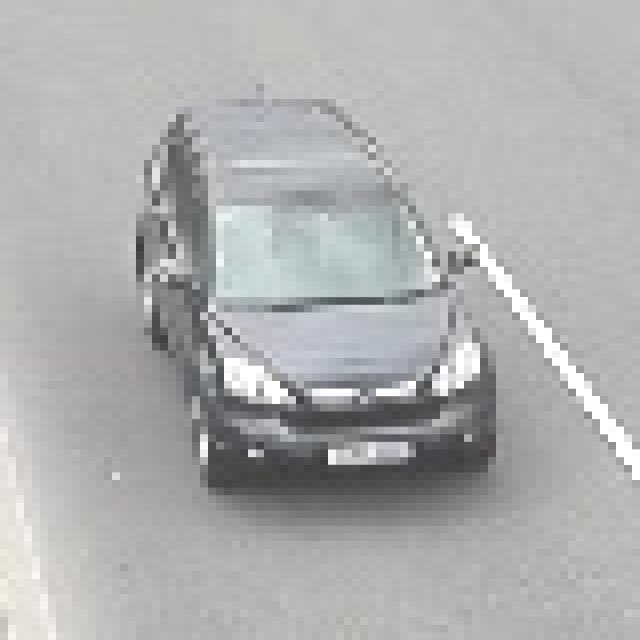SUV: (146, 98, 492, 480)
